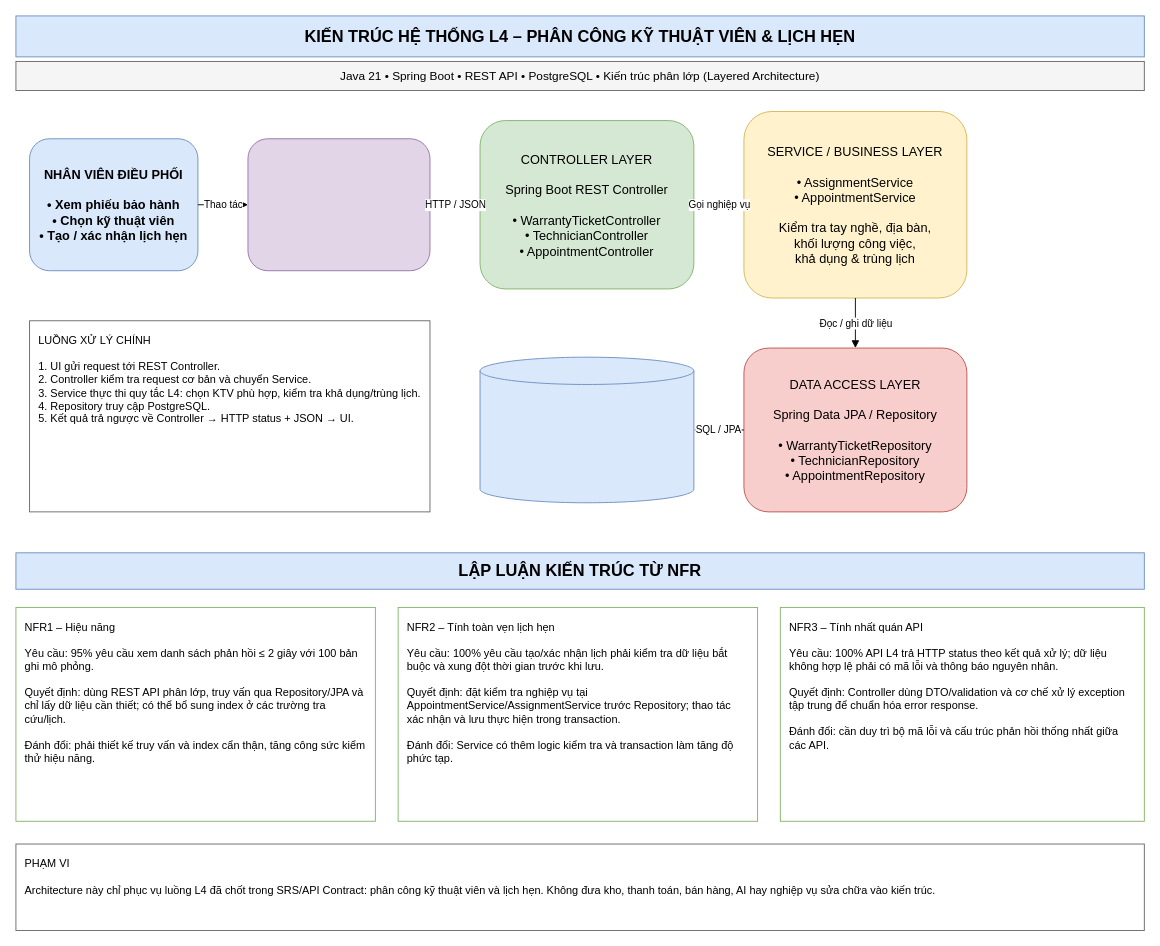
Some shapes in this 1160 by 946 pixel diagram are drawn without their labels. The centre of each missing label's shape, as x and y in pixels:
POSTGRESQL Dữ liệu L4 Phiếu bảo hành Kỹ thuật viên Phân công Lịch hẹn: the point at 586,429
PRESENTATION / UI Web UI / Wireframe Gửi yêu cầu HTTP Hiển thị dữ liệu & lỗi: the point at 338,204
